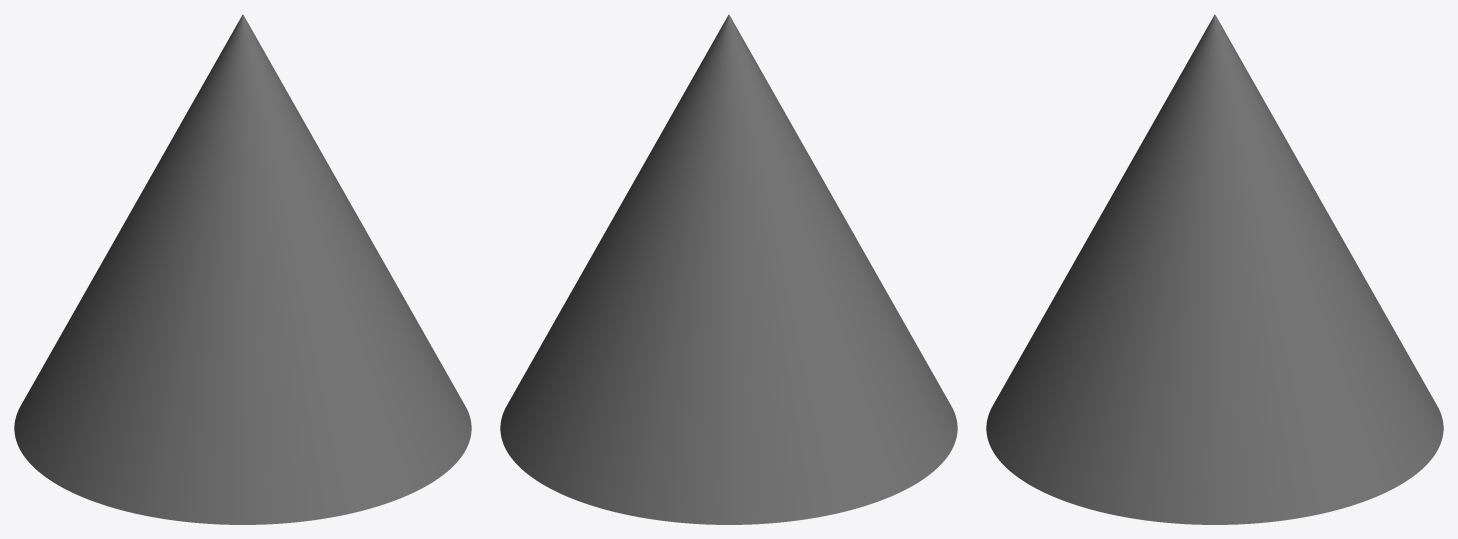
3 renders of one model, left to right at view 1: azimuth 30°, elevation 25°; view 2: azimuth 150°, elevation 25°; view 3: azimuth 270°, elevation 25°, orthographic.
Parts seen in each view (by area): view 1: 锥体; view 2: 锥体; view 3: 锥体.
Boxes of the visible parts, x1,y1,x2,y2 form: 锥体: [14, 14, 471, 524]; 锥体: [500, 14, 957, 524]; 锥体: [986, 14, 1443, 524].
Bounding box in the file's own units: 1 × 1 × 1.
